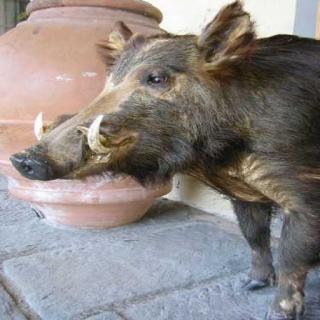Pig: (10, 1, 320, 305)
